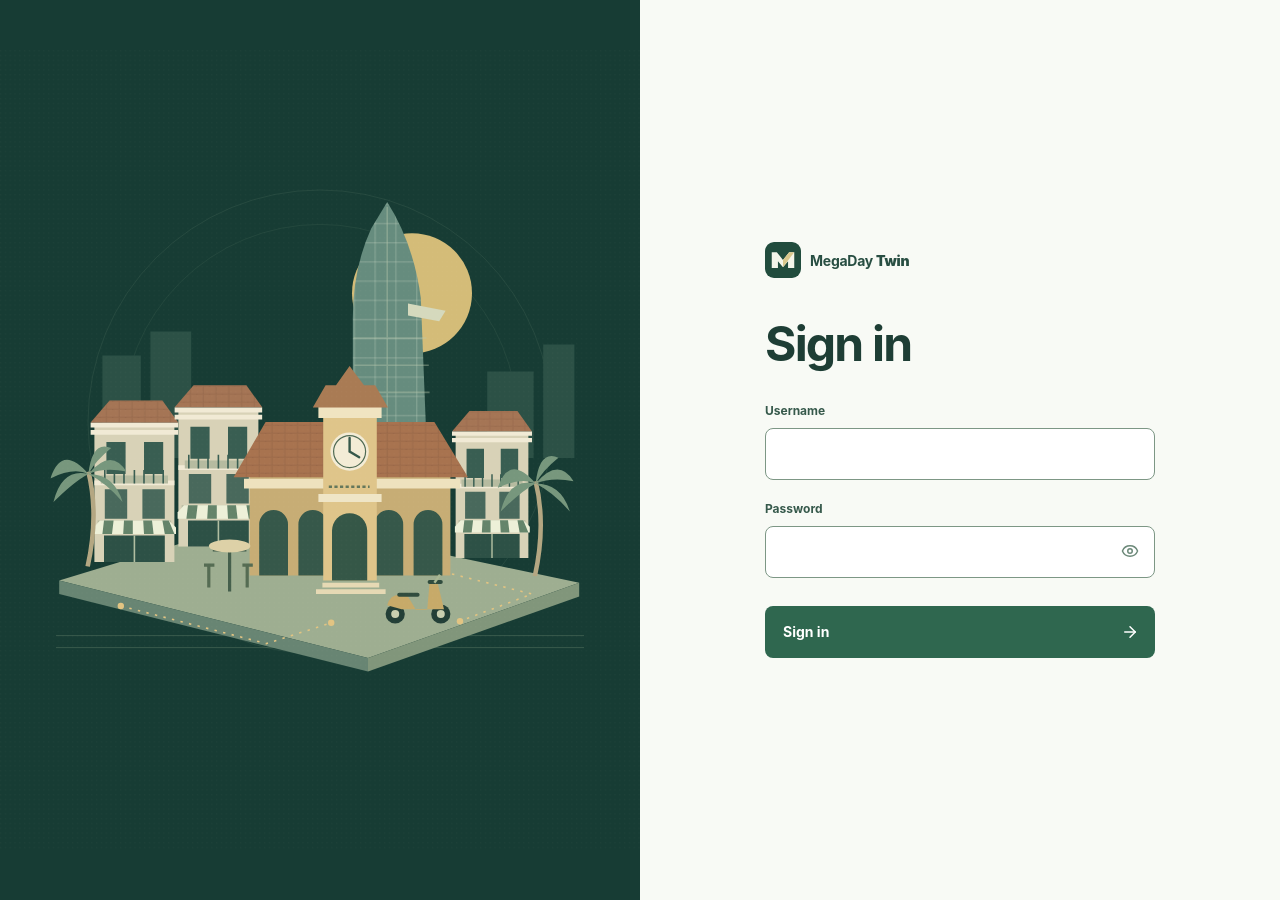
Test case: announces a failed login and keeps the fields available for correction
Type "judges" into the field labelled "Username". click: (960, 454)
box: [765,428,1155,480]
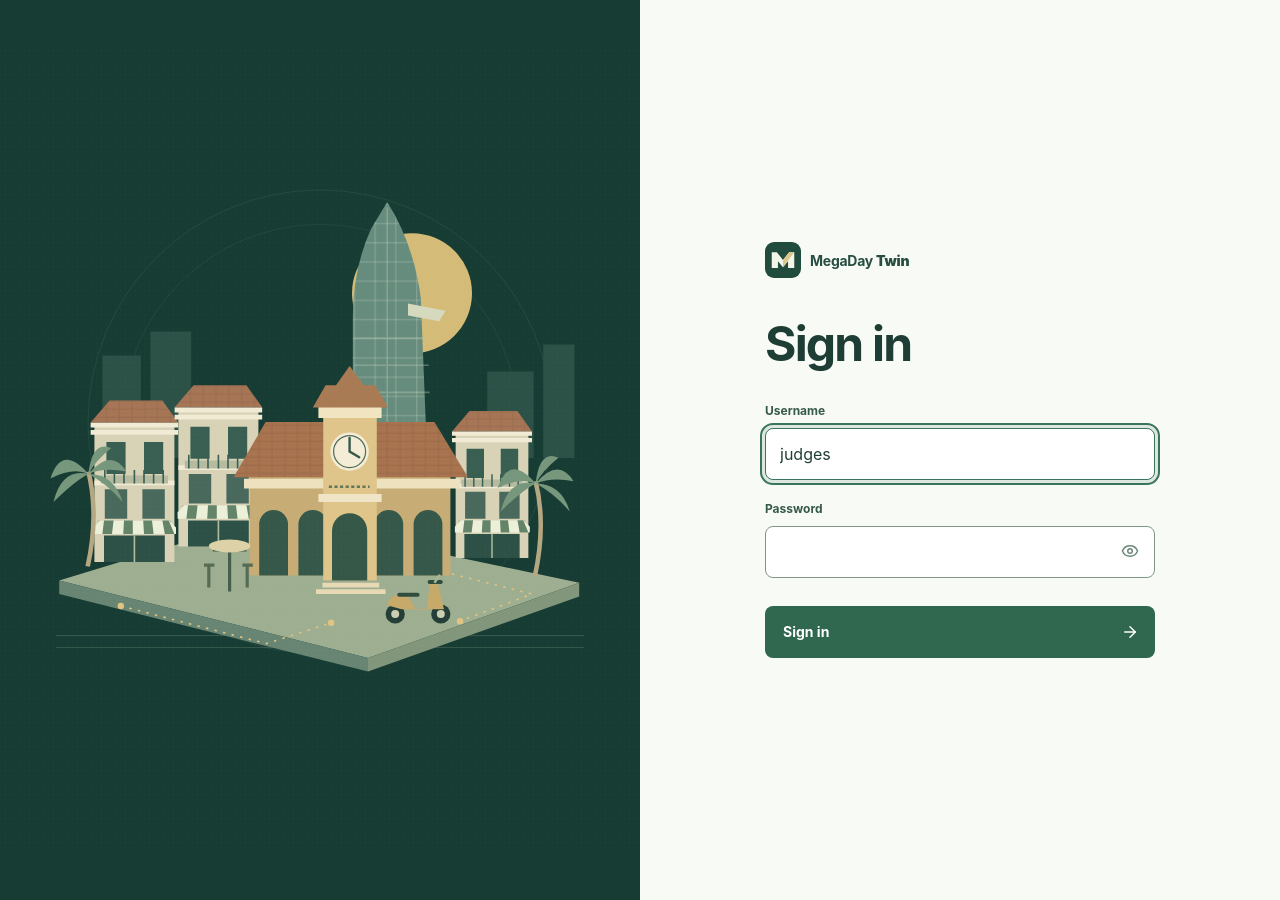
Type "wrong-password" into the password field labelled "Password". click: (960, 552)
box: [765,526,1155,578]
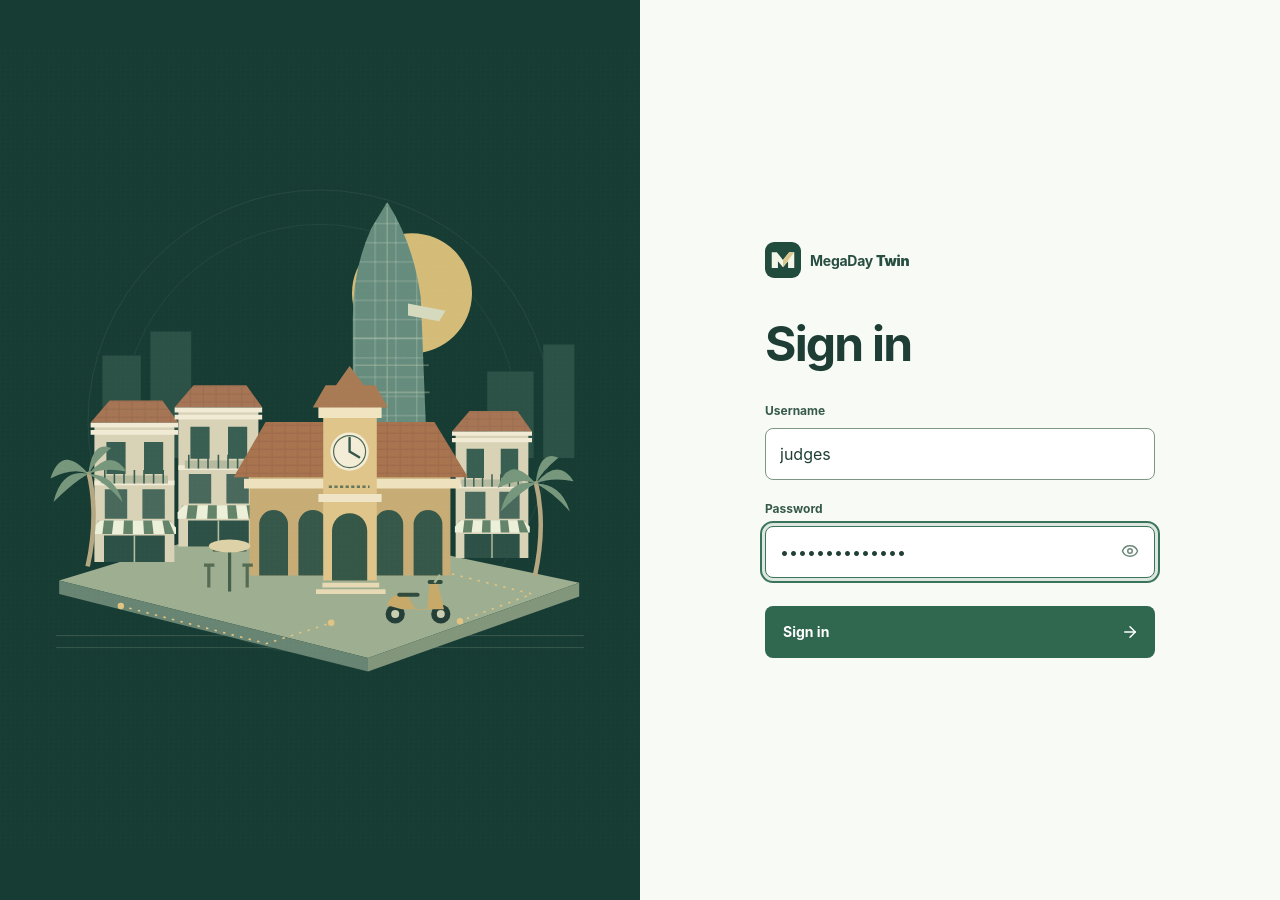
Click the button "Sign in". click: click(806, 632)
box: [765,606,1155,658]
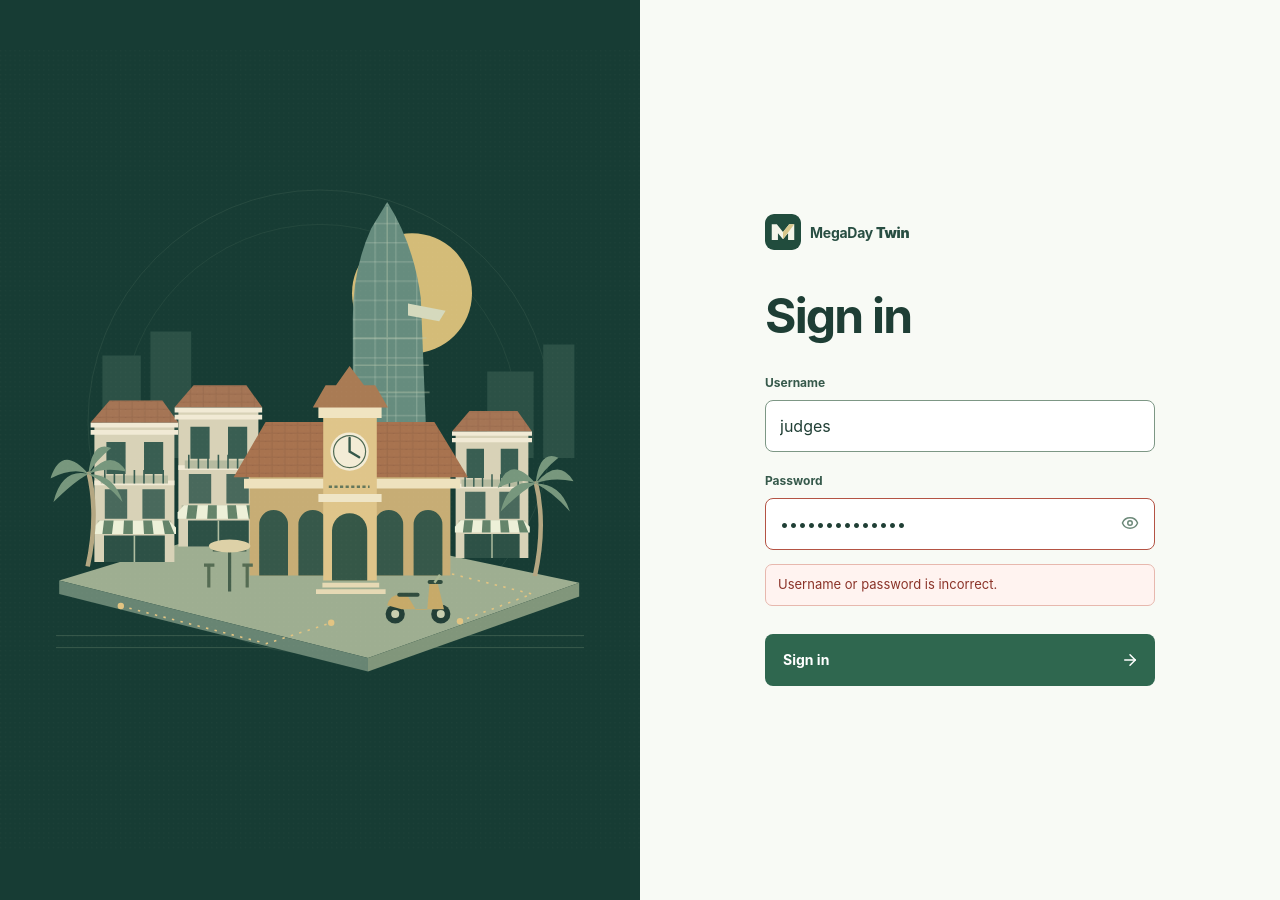
Expected: the button "Sign in" is enabled, [765,634,1155,686]
Expected: the message reads "Username or password is incorrect.", [778,576,997,592]
